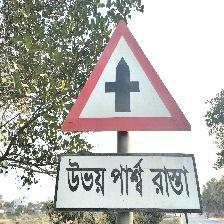Crossroad: (53, 16, 208, 214)
